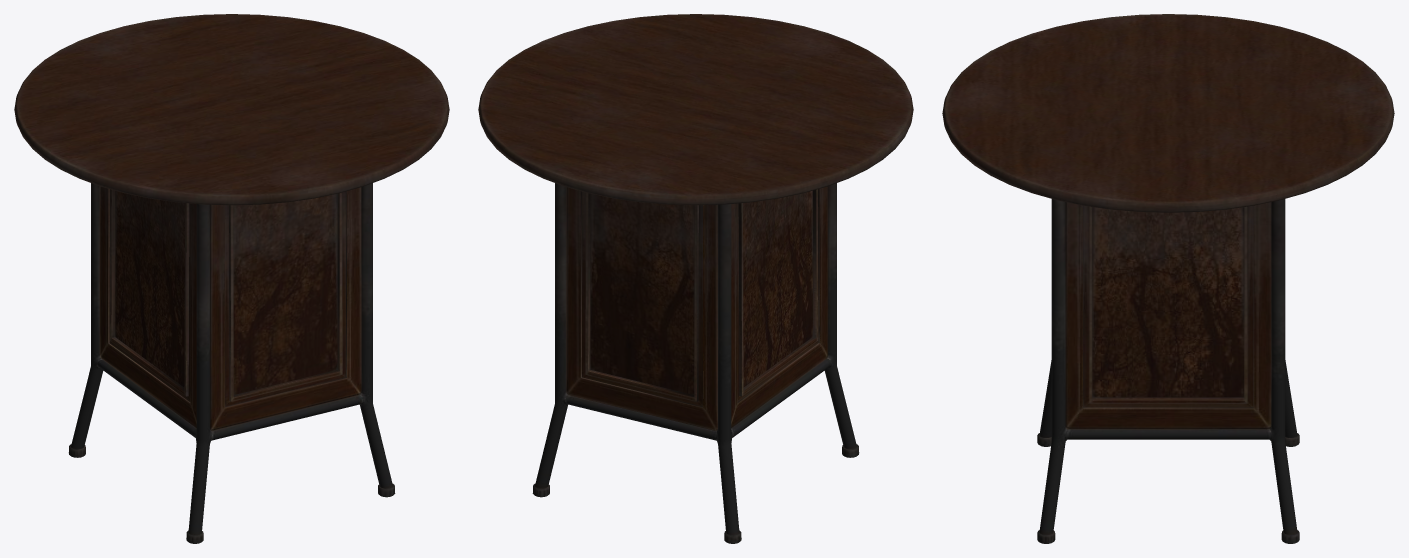
The model's file is round_wooden_table_02.glb.
The picture shows the model from 3 angles, left to right: view 1: azimuth 30°, elevation 25°; view 2: azimuth 150°, elevation 25°; view 3: azimuth 270°, elevation 25°; orthographic projection. The views are drawn at different scales.
Parts seen in each view (by area): view 1: round_wooden_table_02; view 2: round_wooden_table_02; view 3: round_wooden_table_02.
Part boxes in pixels (x1,y1,x2,y2): round_wooden_table_02: (14,14,449,543); round_wooden_table_02: (478,14,913,543); round_wooden_table_02: (942,14,1394,543).
Bounding box in the file's own units: 0.7962 × 0.746 × 0.7962.
1 material, 1 textured.
